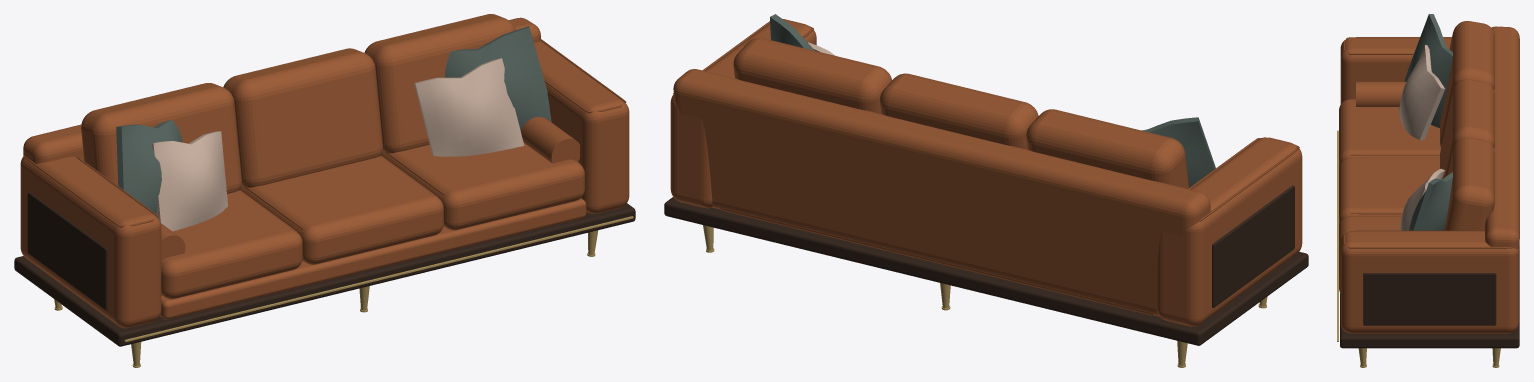
Rendered from milano-cognac-3.glb.
3 renders of one model, left to right at view 1: azimuth 30°, elevation 25°; view 2: azimuth 150°, elevation 25°; view 3: azimuth 270°, elevation 25°, orthographic. The views are drawn at different scales.
Bounding box in the file's own units: 2.2 × 0.8344 × 0.7932.
